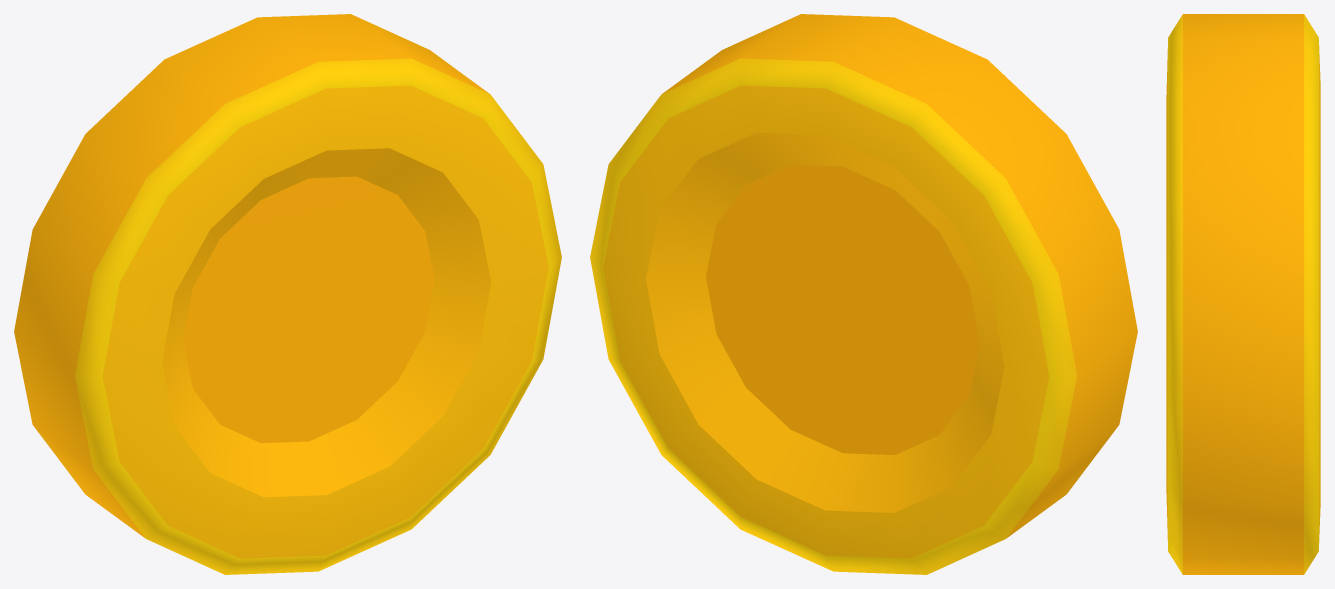
The model's file is coin_001.glb.
3 renders of one model, left to right at view 1: azimuth 30°, elevation 25°; view 2: azimuth 150°, elevation 25°; view 3: azimuth 270°, elevation 25°, orthographic.
Parts seen in each view (by area): view 1: coin_001; view 2: coin_001; view 3: coin_001.
Part boxes in pixels (x1,y1,x2,y2): coin_001: (14,14,561,574); coin_001: (590,14,1137,574); coin_001: (1166,14,1320,574).
Bounding box in the file's own units: 0.9346 × 0.9346 × 0.2573.
Materials: 1 (1 with a texture image).
